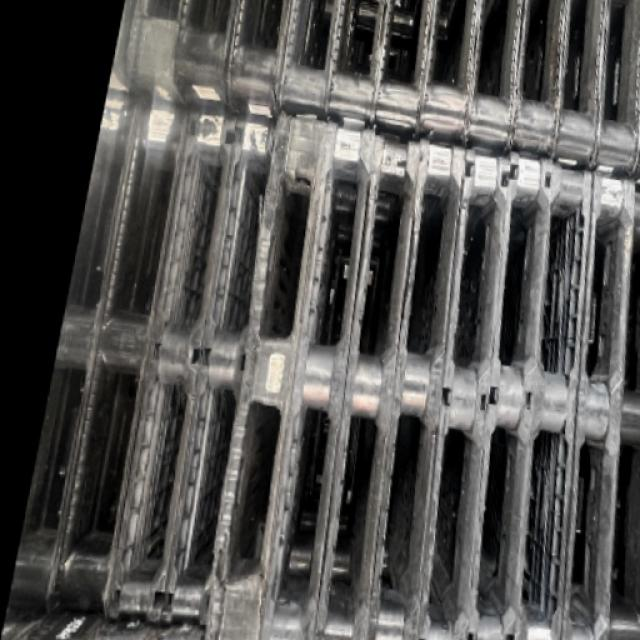igps: (35, 85, 198, 640), (96, 97, 254, 640), (193, 101, 344, 640), (0, 80, 150, 621), (149, 101, 296, 640), (245, 111, 391, 640), (300, 127, 436, 640), (344, 128, 478, 640), (395, 136, 525, 640), (444, 126, 562, 640), (496, 150, 600, 640), (551, 164, 639, 640), (586, 173, 640, 640), (553, 0, 607, 184), (510, 0, 569, 166), (591, 0, 639, 186), (372, 0, 432, 147), (466, 0, 520, 161), (228, 0, 294, 128), (111, 0, 182, 118), (326, 0, 386, 134), (422, 0, 474, 153), (278, 0, 338, 130), (179, 0, 239, 119)
